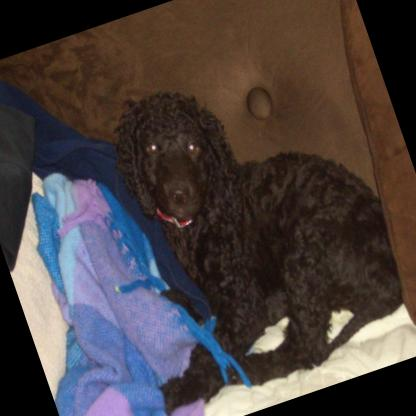Irish_water_spaniel: (63, 26, 416, 416)
